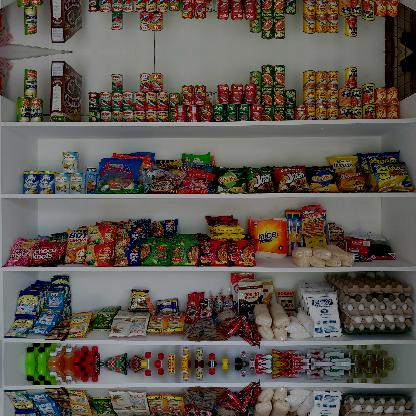Koko-Krunch: (50, 61, 82, 121), (50, 0, 83, 44)
